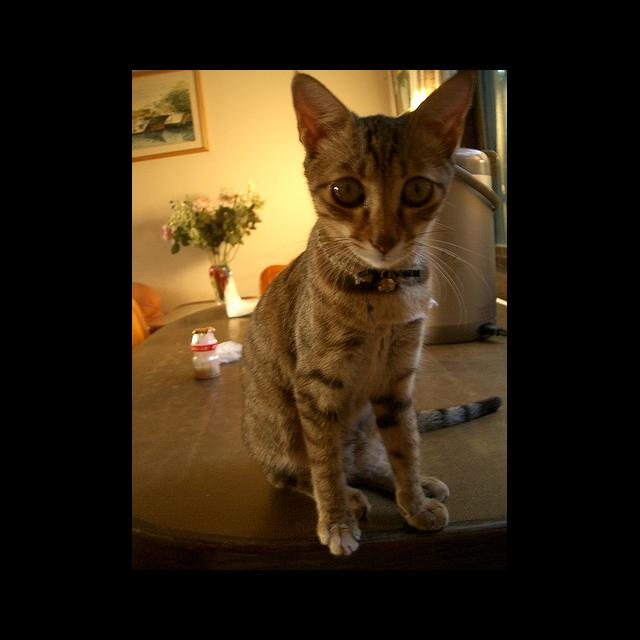animals: (296, 70, 474, 251)
